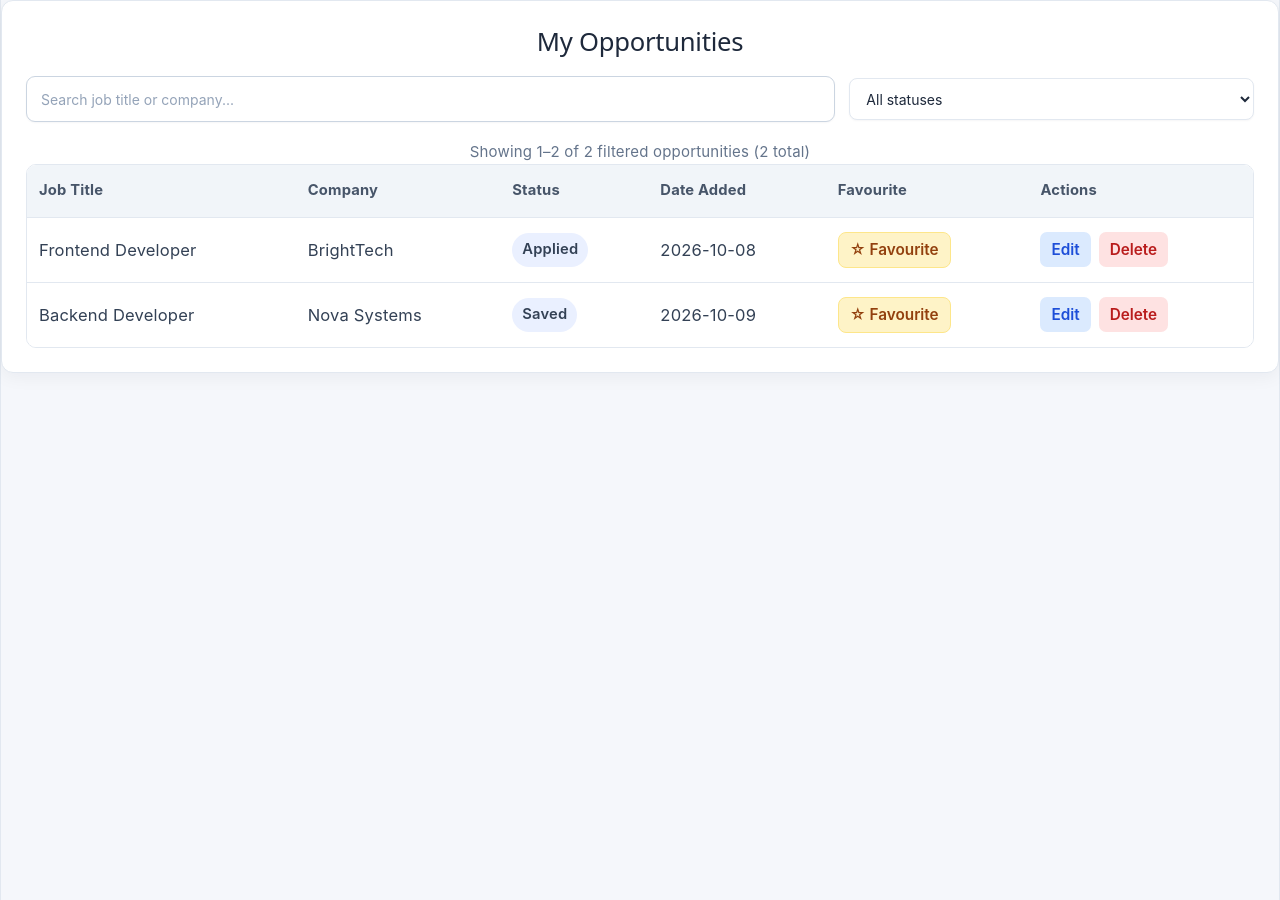
Test: JobTable search and filtering › filters jobs by status
Step 1. Select "Applied" in the dropdown named "filter jobs by status" → [1052, 99], box [849,78,1254,120]
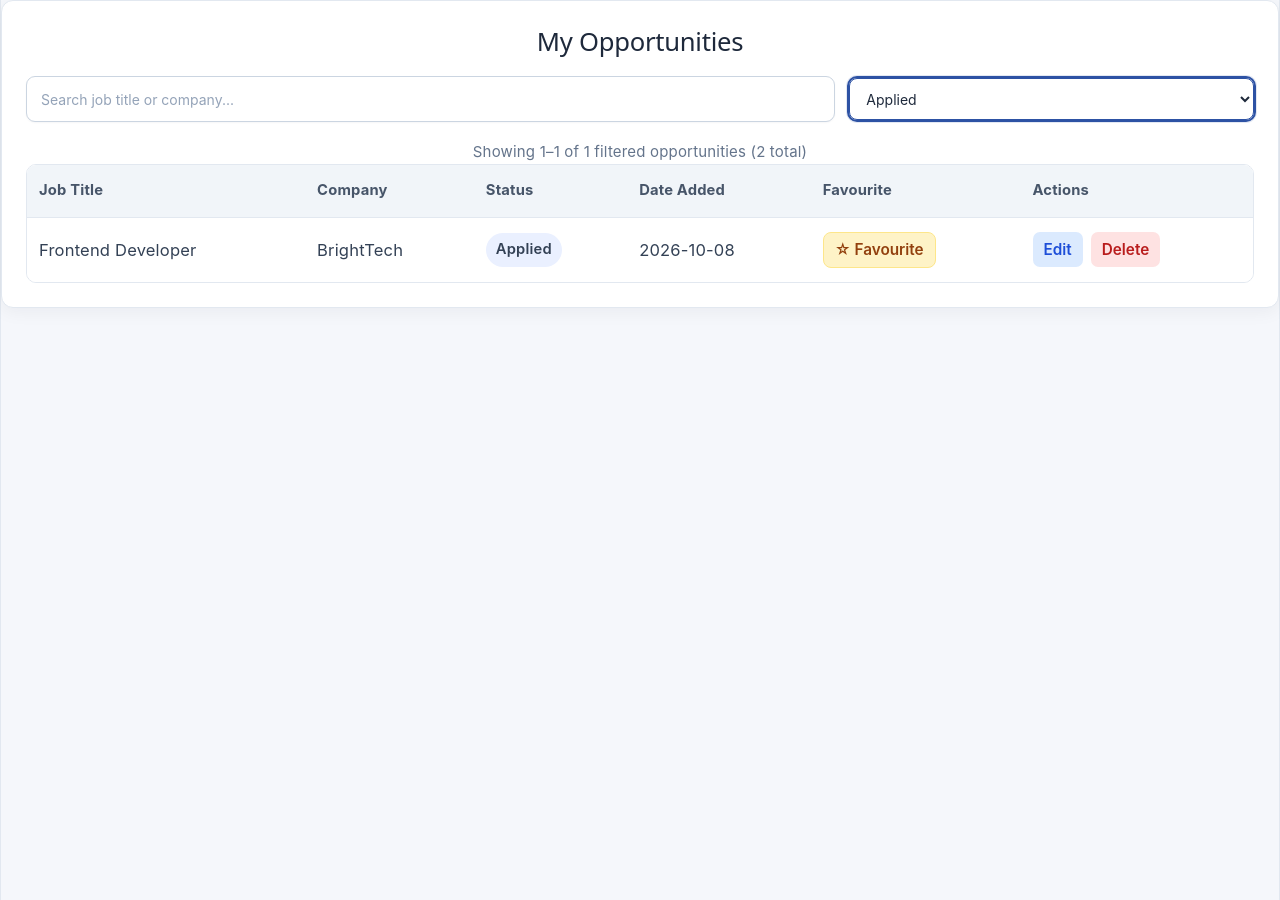
Check: the text "Frontend Developer" is shown, box [27,217,305,282]
Check: the text "Backend Developer" is gone
